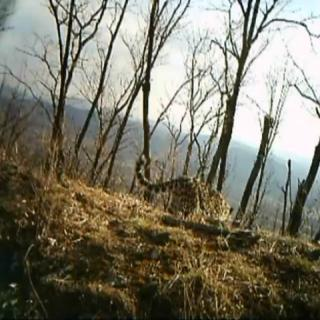Leopard: (134, 150, 235, 224)
